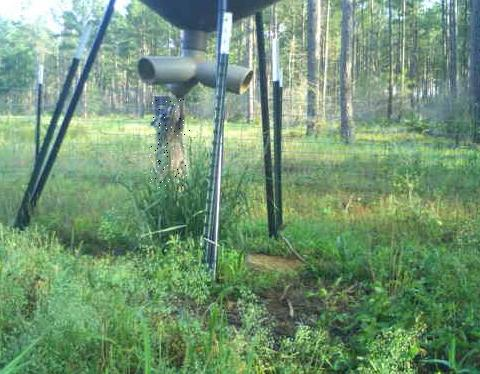Raccoon: (149, 99, 190, 189)
